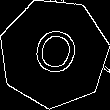O_S: (26, 22, 82, 84)
